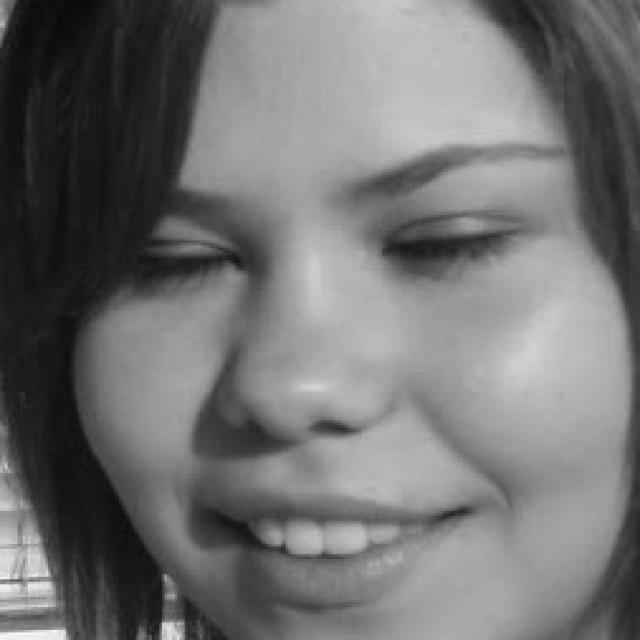real: (42, 16, 568, 624), (104, 206, 544, 298)
